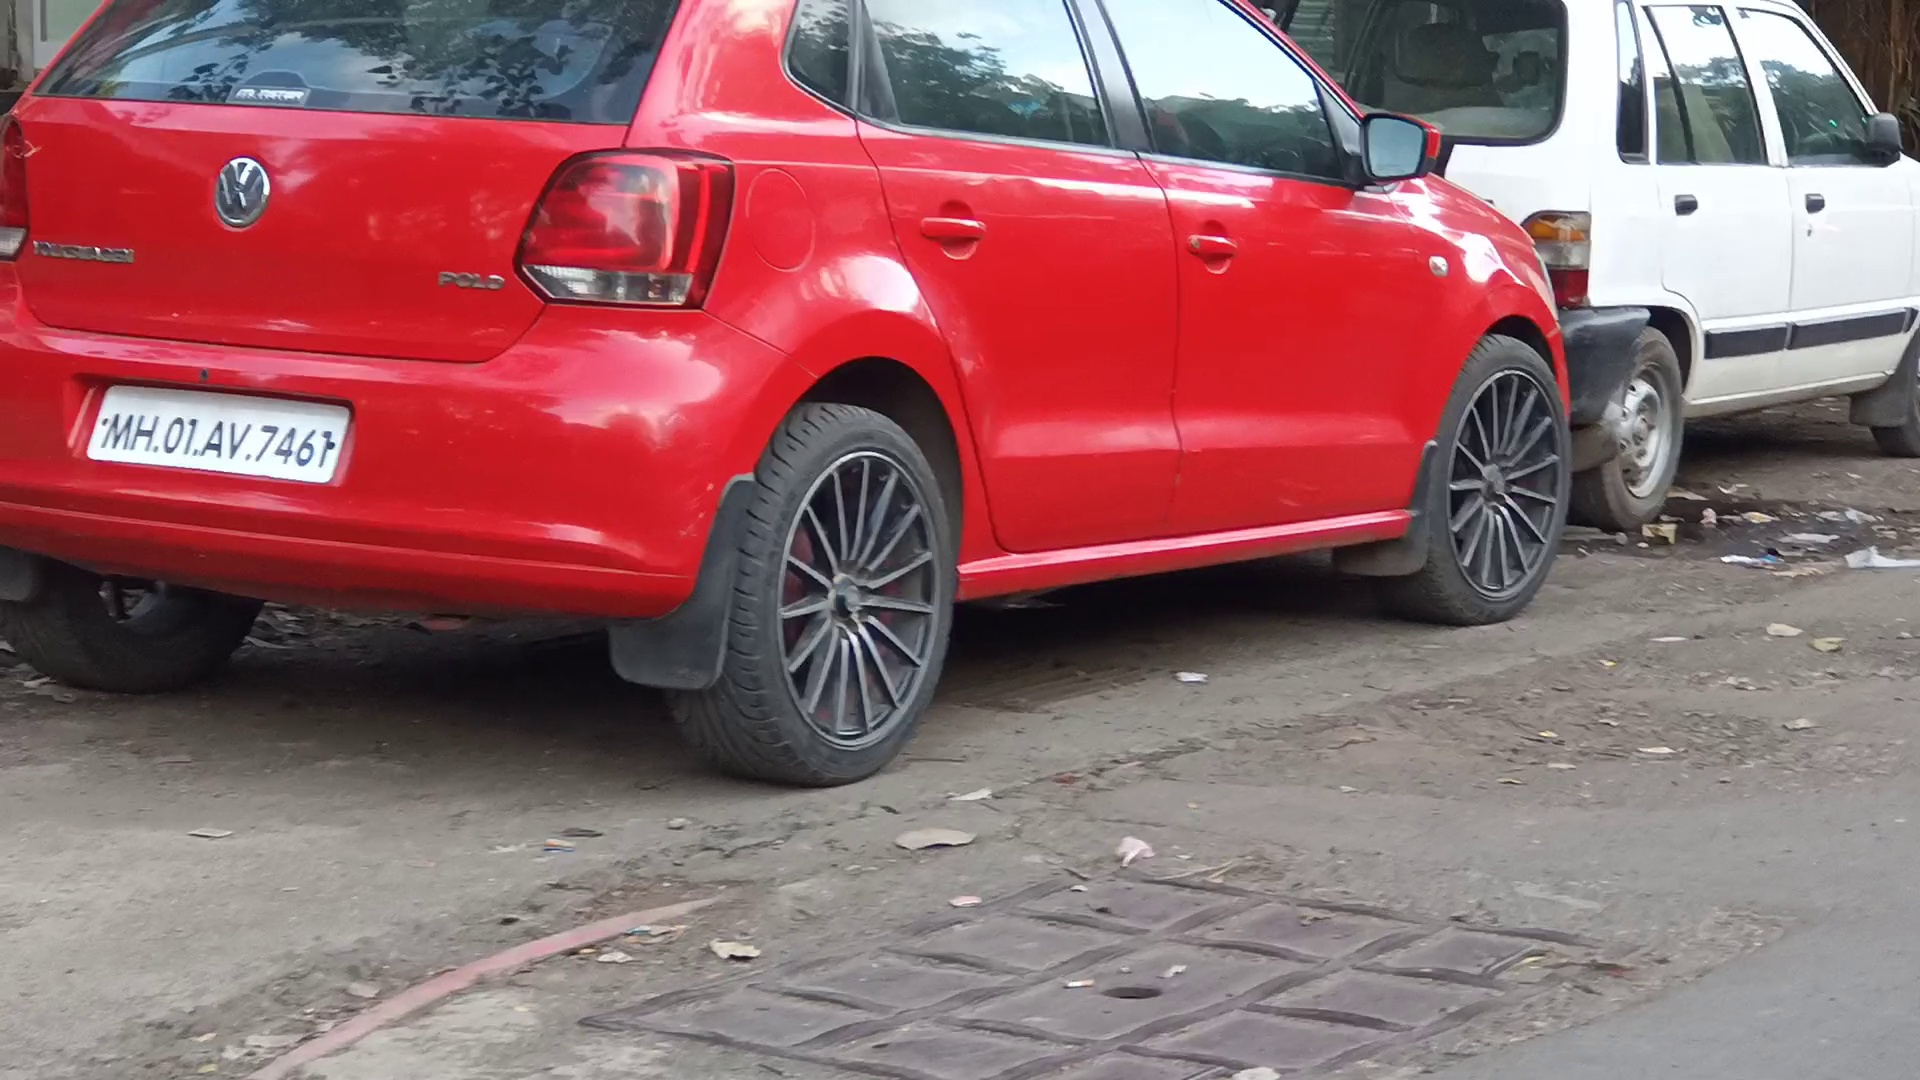MH01AV7461: (87, 378, 348, 483)
